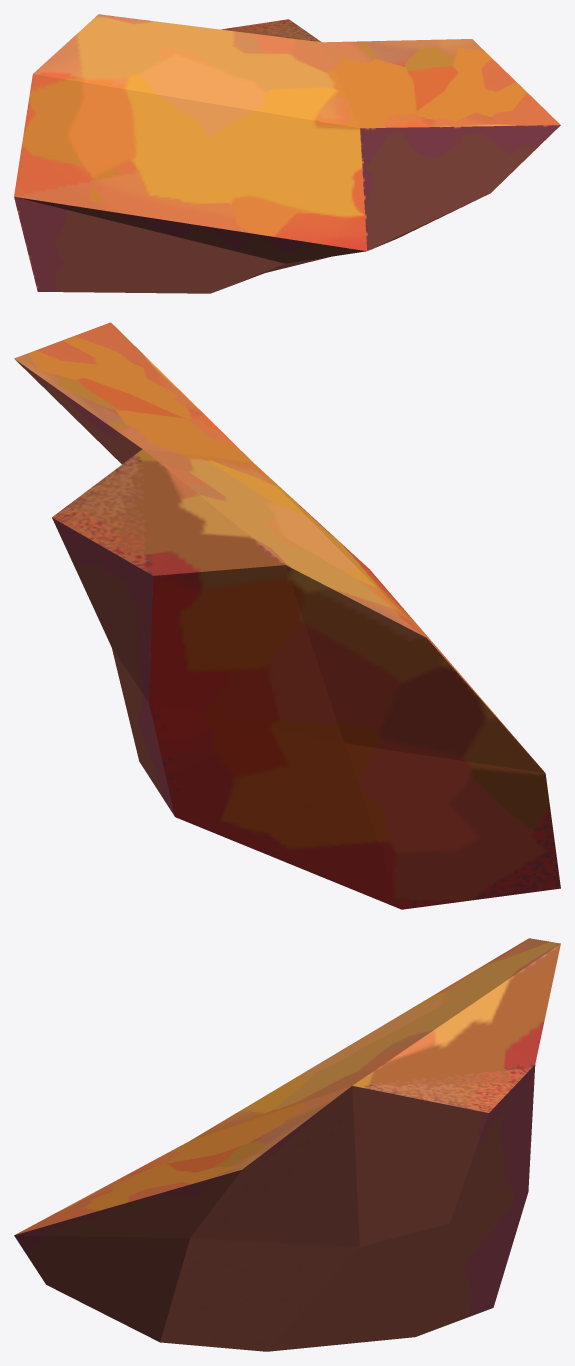
The model's file is Grips1_002Broken.fbx.
The picture shows the model from 3 angles, top to bottom: view 1: azimuth 30°, elevation 25°; view 2: azimuth 150°, elevation 25°; view 3: azimuth 270°, elevation 25°; orthographic projection. The views are drawn at different scales.
Parts seen in each view (by area): view 1: Grips1_002Broken; view 2: Grips1_002Broken; view 3: Grips1_002Broken.
Boxes of the visible parts, left/top/right/bottom form: Grips1_002Broken: left=14, top=14, right=560, bottom=293; Grips1_002Broken: left=14, top=322, right=560, bottom=909; Grips1_002Broken: left=14, top=938, right=560, bottom=1351.
Bounding box in the file's own units: 1.98 × 2.62 × 1.44.
Materials: 1 (1 with a texture image).
